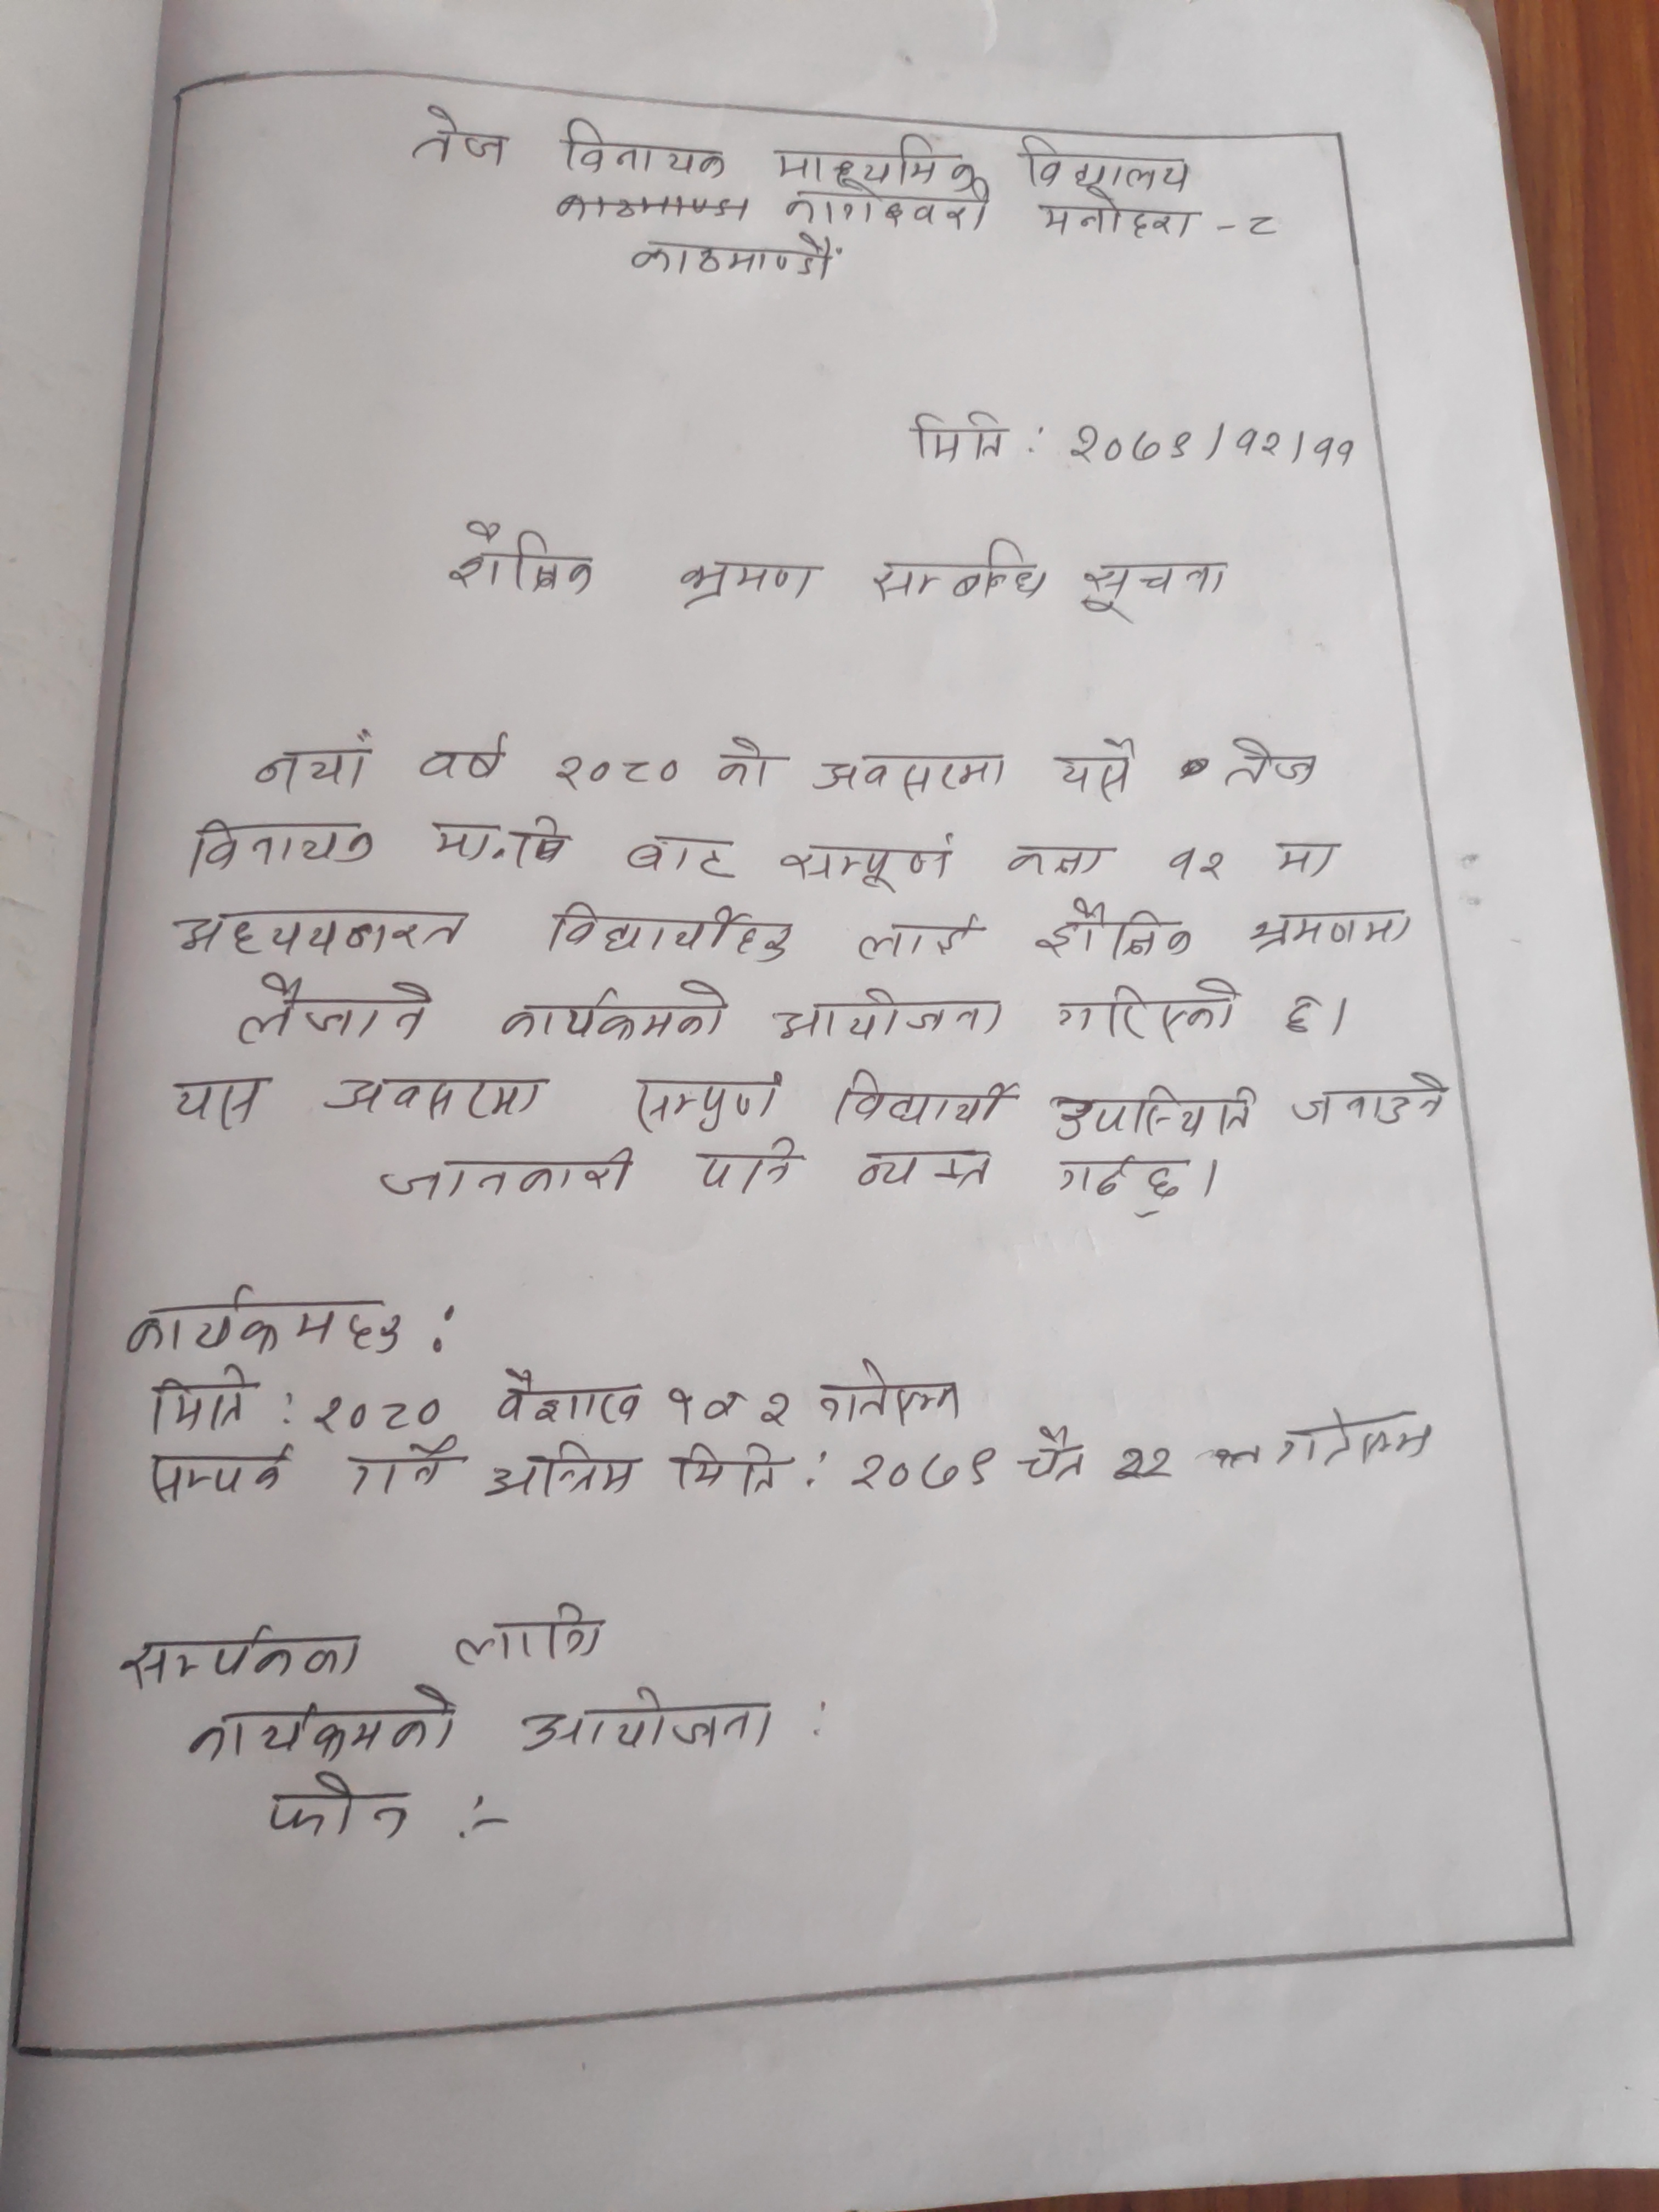text: (122, 1280, 411, 1360), (188, 1688, 462, 1766), (117, 1618, 369, 1696), (516, 1688, 779, 1761), (547, 899, 793, 968), (234, 967, 432, 1050), (497, 979, 732, 1045), (1070, 423, 1359, 475), (369, 1143, 636, 1198), (162, 907, 477, 954), (772, 984, 1012, 1043), (1051, 1080, 1262, 1146), (870, 533, 1053, 608), (765, 131, 983, 193), (310, 1066, 547, 1122), (446, 517, 598, 601), (833, 1064, 1019, 1132), (186, 817, 380, 880), (1054, 977, 1243, 1040), (558, 115, 734, 181), (777, 840, 967, 900), (627, 232, 849, 284), (1269, 1404, 1436, 1472), (267, 1770, 418, 1844), (810, 744, 1012, 799), (812, 1357, 969, 1428), (1014, 132, 1195, 192), (483, 1437, 645, 1503), (450, 1602, 610, 1669), (1033, 897, 1199, 960), (620, 1073, 784, 1136), (786, 181, 985, 232), (423, 805, 572, 871), (1056, 1146, 1188, 1219), (497, 1364, 647, 1428), (1077, 561, 1234, 622), (842, 1444, 1002, 1500), (1290, 1073, 1450, 1127), (251, 726, 371, 798), (1037, 190, 1199, 242), (1243, 904, 1413, 951), (667, 561, 826, 611), (150, 1444, 291, 1498), (152, 1362, 251, 1439), (850, 1144, 997, 1195), (854, 913, 983, 968), (554, 749, 687, 803), (619, 827, 741, 885), (906, 406, 1011, 472), (410, 101, 511, 169), (1054, 730, 1143, 806), (671, 1439, 786, 1498), (310, 1390, 450, 1439), (692, 1139, 800, 1198), (342, 1442, 451, 1500), (169, 1071, 268, 1134), (1223, 735, 1323, 796), (418, 728, 511, 789), (1019, 1425, 1094, 1486), (1002, 841, 1115, 880), (1272, 833, 1347, 885), (1110, 1440, 1180, 1493), (711, 728, 770, 789), (1162, 836, 1234, 885), (1276, 988, 1323, 1047), (748, 1383, 795, 1428), (704, 1383, 751, 1425), (666, 1379, 702, 1432), (1244, 211, 1284, 247)
